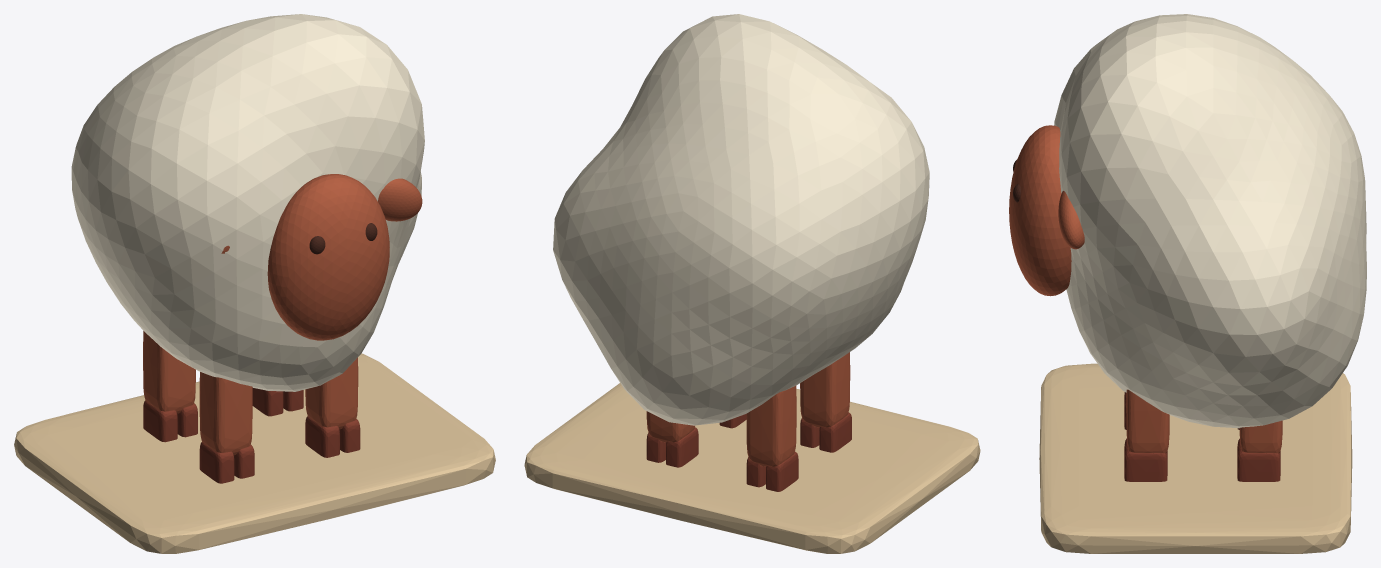
File: sheep.glb
The picture shows the model from 3 angles, left to right: view 1: azimuth 30°, elevation 25°; view 2: azimuth 150°, elevation 25°; view 3: azimuth 270°, elevation 25°; orthographic projection. The views are drawn at different scales.
Parts seen in each view (by area): view 1: Wool, Mat, Face, Leg_FR, Leg_BR, Leg_FL, Ear_L, Hoof_FR_-1, Hoof_BR_-1, Hoof_FL_-1, Hoof_BL_-1, Hoof_FL_1 (+2 smaller); view 2: Wool, Mat, Leg_BR, Leg_FR, Hoof_BR_-1, Hoof_BL_-1, Hoof_FR_-1, Leg_BL; view 3: Wool, Mat, Face, Leg_FL, Hoof_FL_1, Hoof_BL_1, Leg_BL, Ear_L.
Boxes of the visible parts, box(x1,y1,x2,y2) form: Wool: box(71, 14, 424, 391); Mat: box(14, 353, 495, 553); Face: box(267, 174, 389, 340); Leg_FR: box(199, 372, 252, 454); Leg_BR: box(143, 331, 195, 413); Leg_FL: box(305, 357, 358, 429); Ear_L: box(378, 178, 422, 221); Hoof_FR_-1: box(199, 442, 234, 483); Hoof_BR_-1: box(143, 400, 177, 442); Hoof_FL_-1: box(305, 416, 339, 457); Hoof_BL_-1: box(252, 388, 283, 416); Hoof_FL_1: box(339, 419, 360, 452); Wool: box(553, 14, 929, 425); Mat: box(524, 383, 980, 553); Leg_BR: box(746, 385, 796, 466); Leg_FR: box(800, 352, 850, 427); Hoof_BR_-1: box(766, 451, 798, 491); Hoof_BL_-1: box(666, 427, 698, 467); Hoof_FR_-1: box(819, 412, 851, 452); Leg_BL: box(646, 411, 694, 442); Wool: box(1054, 14, 1366, 428); Mat: box(1039, 363, 1352, 553); Face: box(1009, 125, 1071, 296); Leg_FL: box(1126, 389, 1169, 453); Hoof_FL_1: box(1124, 447, 1167, 481); Hoof_BL_1: box(1237, 447, 1280, 481); Leg_BL: box(1239, 420, 1282, 453); Ear_L: box(1058, 191, 1084, 249).
Size of the model in its own units: 0.95 by 1.14 by 0.8235.
